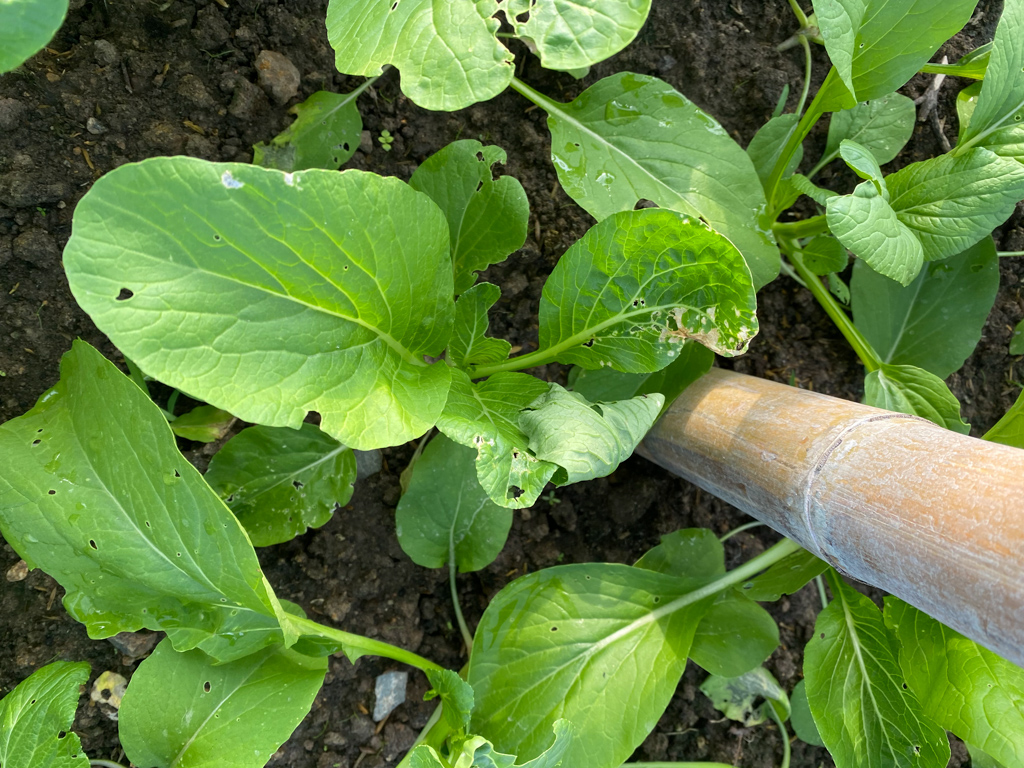Leaf Curl Disease: (443, 369, 666, 513)
